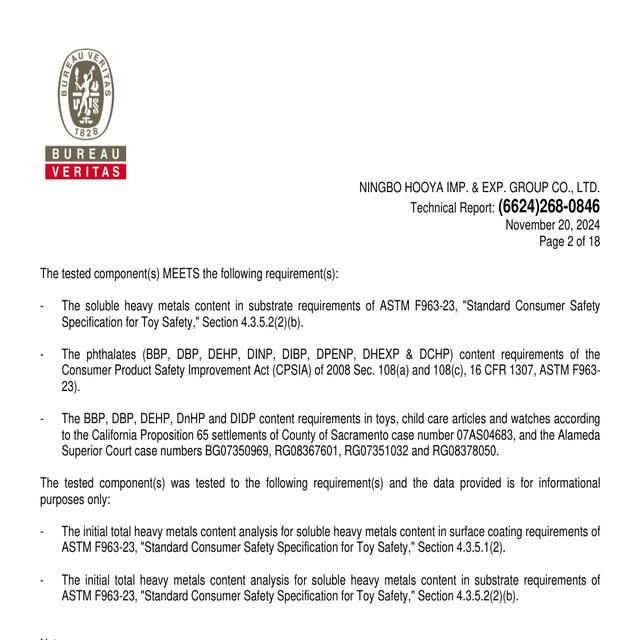bureau_veritas: (46, 47, 128, 180)
